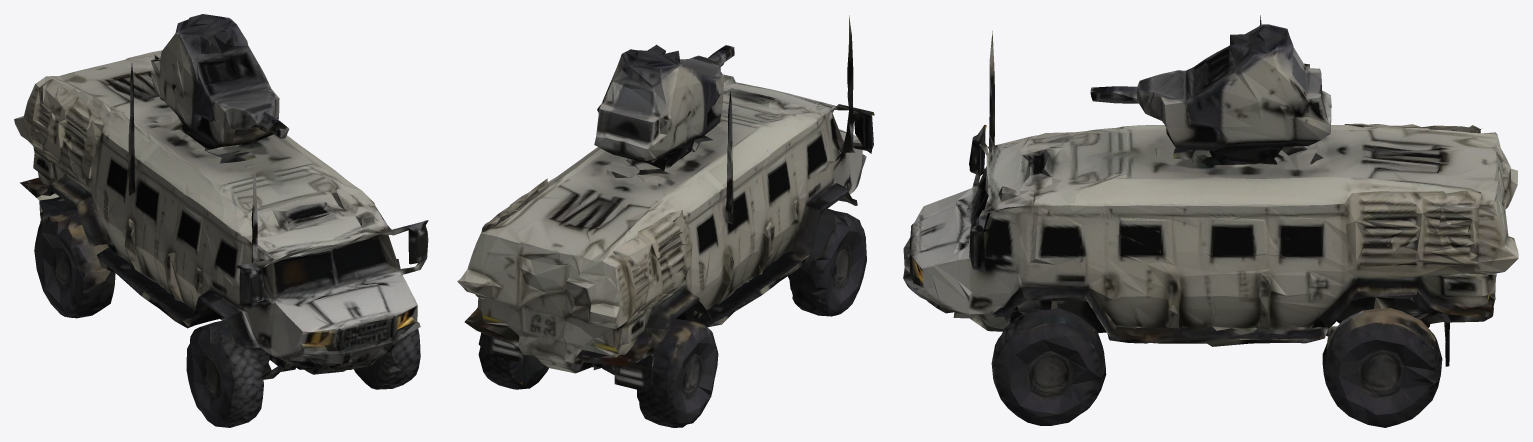
File: veh_mengshi.glb
3 views of the same model, side by side, from view 1: azimuth 30°, elevation 25°; view 2: azimuth 150°, elevation 25°; view 3: azimuth 270°, elevation 25° (orthographic). The views are drawn at different scales.
Visible parts, largest first — view 1: veh_mengshi_tex; view 2: veh_mengshi_tex; view 3: veh_mengshi_tex.
Part boxes in pixels (x1,y1,x2,y2): veh_mengshi_tex: (14, 14, 428, 427); veh_mengshi_tex: (457, 15, 874, 427); veh_mengshi_tex: (903, 15, 1518, 427).
Bounding box in the file's own units: 2.04 × 3.1 × 5.
1 material, 1 textured.
